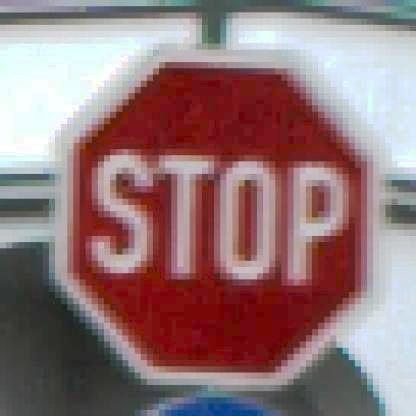Stop Sign: (63, 39, 390, 388)
